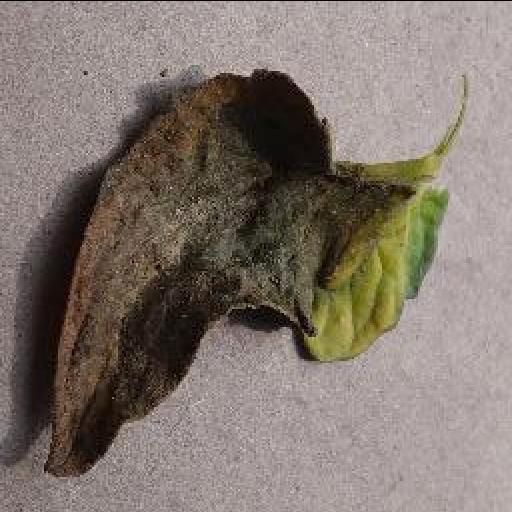disease_tomato: (40, 67, 446, 481)
